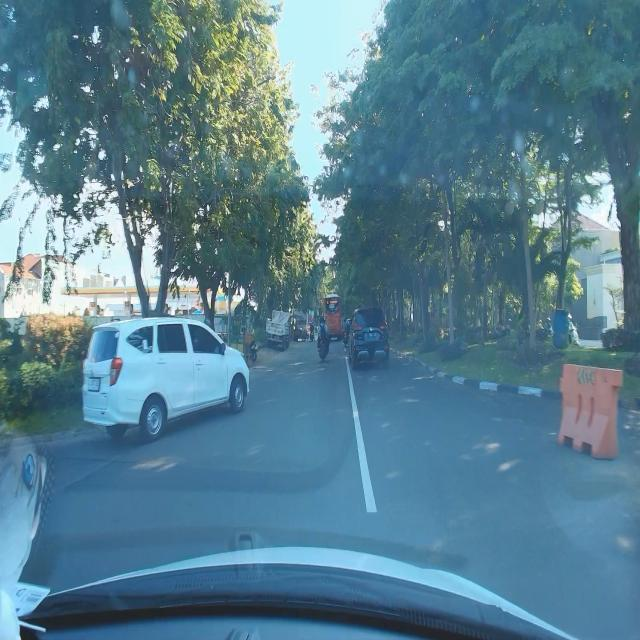bus: (323, 292, 343, 342)
car: (347, 304, 392, 372)
truck: (265, 310, 293, 349)
